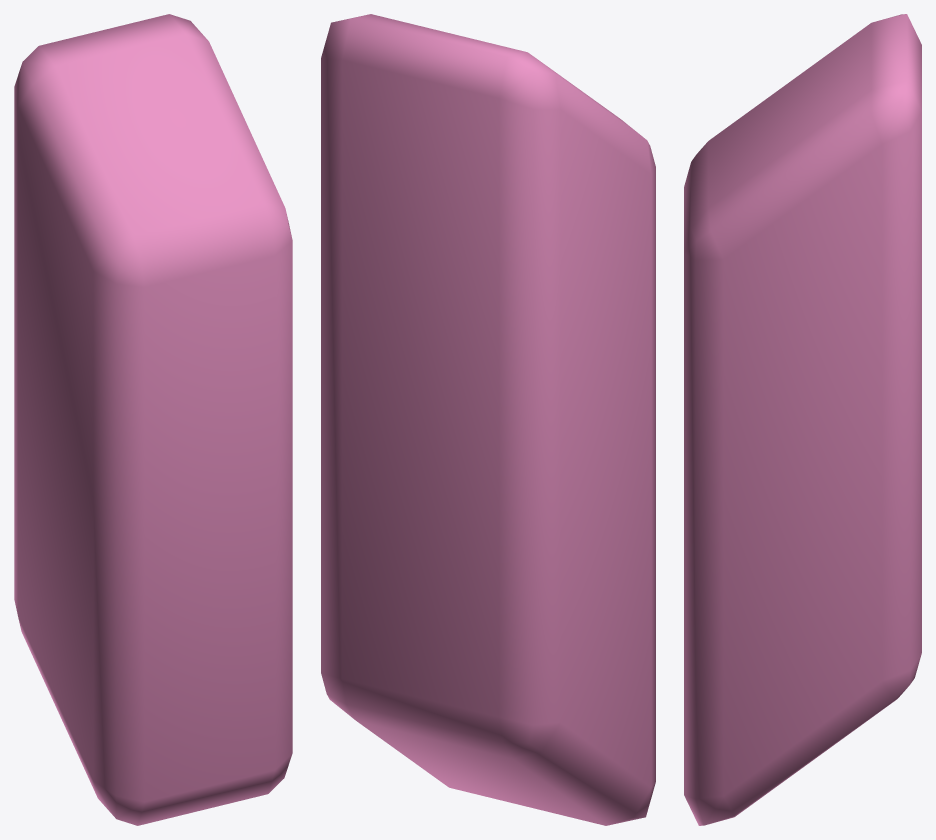
Rendered from EraserRound.fbx.
3 views of the same model, side by side, from view 1: azimuth 30°, elevation 25°; view 2: azimuth 150°, elevation 25°; view 3: azimuth 270°, elevation 25° (orthographic). The views are drawn at different scales.
Visible parts, largest first — view 1: EraserRound; view 2: EraserRound; view 3: EraserRound.
Part boxes in pixels (x1,y1,x2,y2): EraserRound: (14,14,292,825); EraserRound: (321,14,655,825); EraserRound: (684,14,921,825).
Size of the model in its own units: 63.74 by 220 by 63.74.
